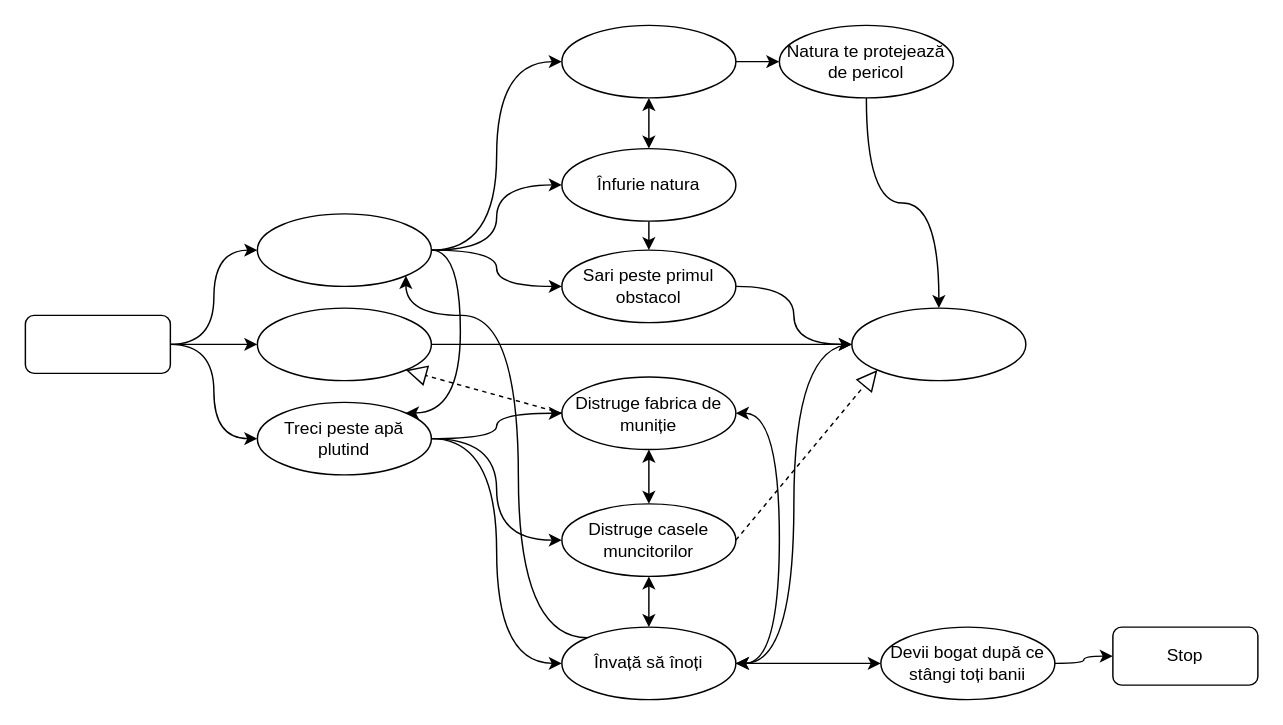
This 1283x725 diagram has some shape labels left out. The shapes that lost their labels are listed below. From the top down, each one's centre as x and y in pixels, then its label:
the point at 648,61: Obține binecuvântarea naturii
the point at 343,249: Abilitatea de a sării
the point at 97,343: Start
the point at 343,344: Eliberează calea prin forță brută
the point at 938,344: Distruge obstacolul 2
